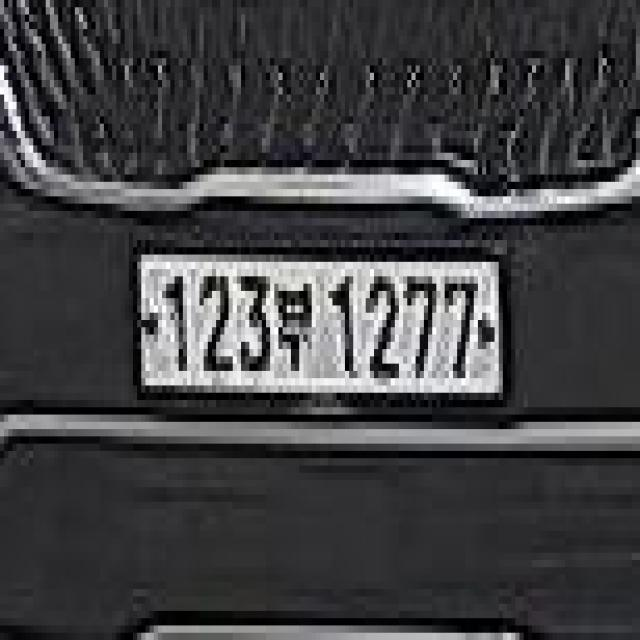illegal_plate: (133, 235, 513, 436)
